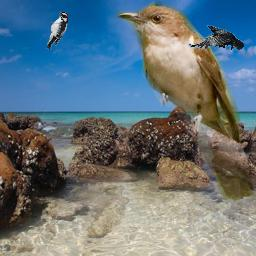Crow: (187, 25, 244, 52)
Cuckoo: (115, 1, 255, 203)
Woodpecker: (46, 11, 68, 50)
